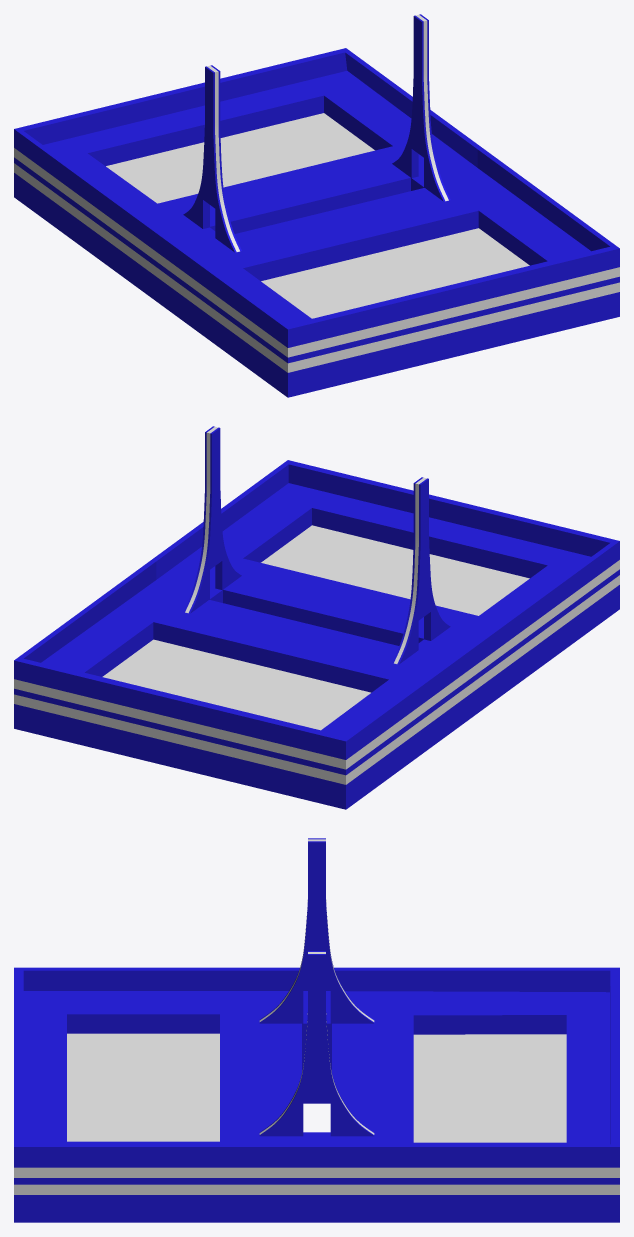
The model's file is Tray.fbx.
3 views of the same model, one above another, from view 1: azimuth 30°, elevation 25°; view 2: azimuth 150°, elevation 25°; view 3: azimuth 270°, elevation 25° (orthographic). The views are drawn at different scales.
Parts seen in each view (by area): view 1: Tray; view 2: Tray; view 3: Tray.
Boxes of the visible parts, bbox=[...] form: Tray: bbox=[14, 14, 619, 397]; Tray: bbox=[14, 426, 619, 809]; Tray: bbox=[14, 838, 619, 1222].
Size of what is drawn, in the model's own units: 1400 by 860 by 2000.
